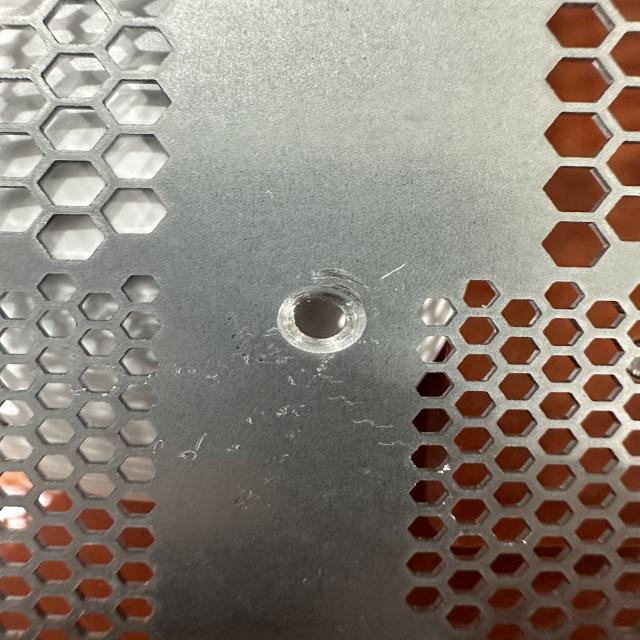Missing screw: (270, 280, 380, 364)
